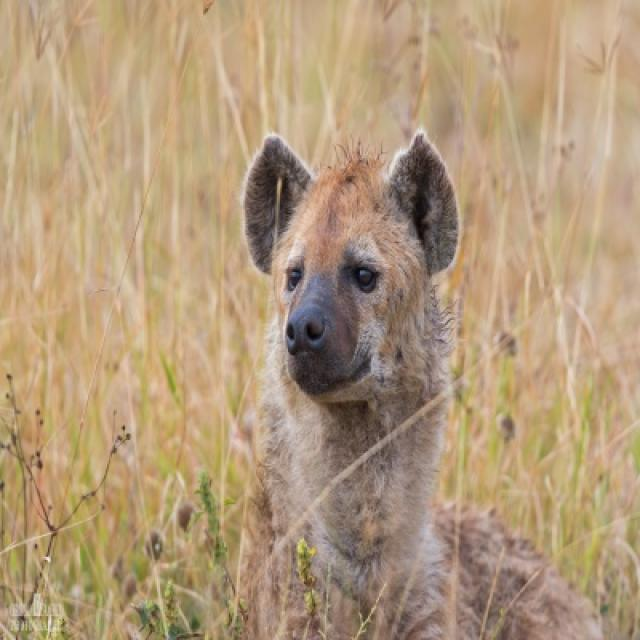hyena: (240, 130, 606, 638)
